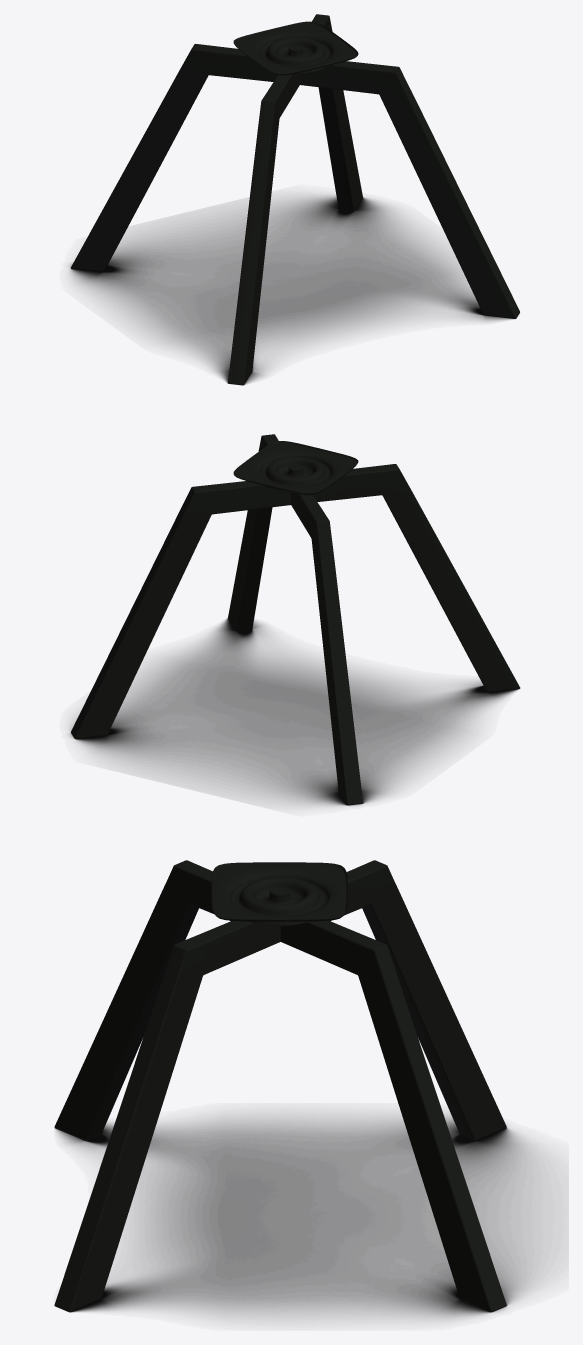
File: z obrotem drewno_v2.glb
3 renders of one model, top to bottom at view 1: azimuth 30°, elevation 25°; view 2: azimuth 150°, elevation 25°; view 3: azimuth 270°, elevation 25°, orthographic. The views are drawn at different scales.
Parts seen in each view (by area): view 1: Shadow, legs.002; view 2: Shadow, legs.002; view 3: Shadow, legs.002.
Part boxes in pixels (<box>): Shadow: <box>69,195,519,385</box>; legs.002: <box>71,14,519,385</box>; Shadow: <box>69,617,519,805</box>; legs.002: <box>71,434,520,805</box>; Shadow: <box>54,1114,554,1319</box>; legs.002: <box>54,860,506,1311</box>.
Size of the model in its own units: 0.5956 by 0.3977 by 0.6133.
Materials: 2 (2 with a texture image).
